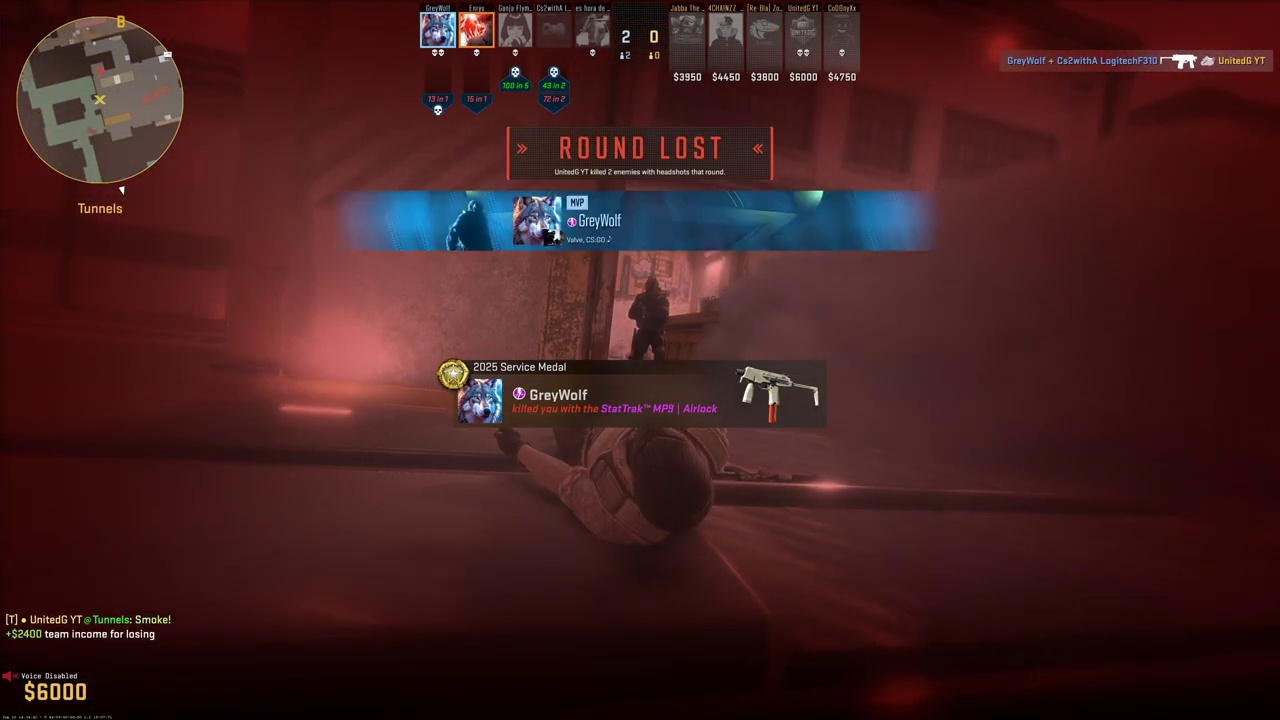CT: (628, 276, 671, 360)
